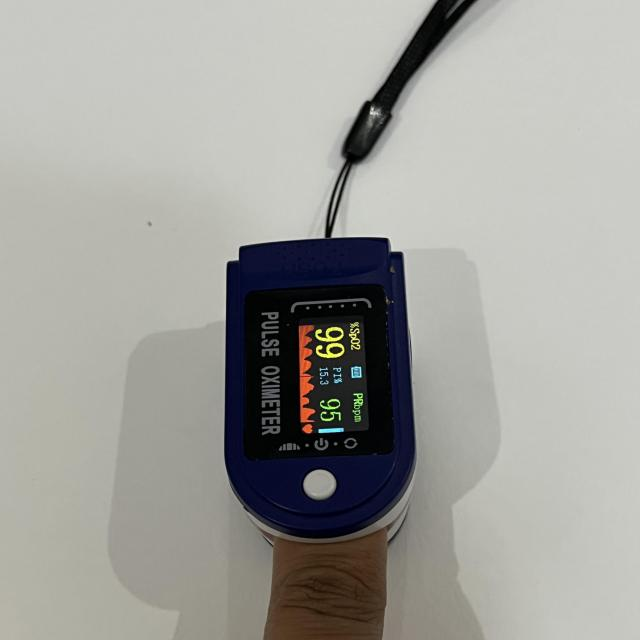spo2: (225, 240, 415, 546)
